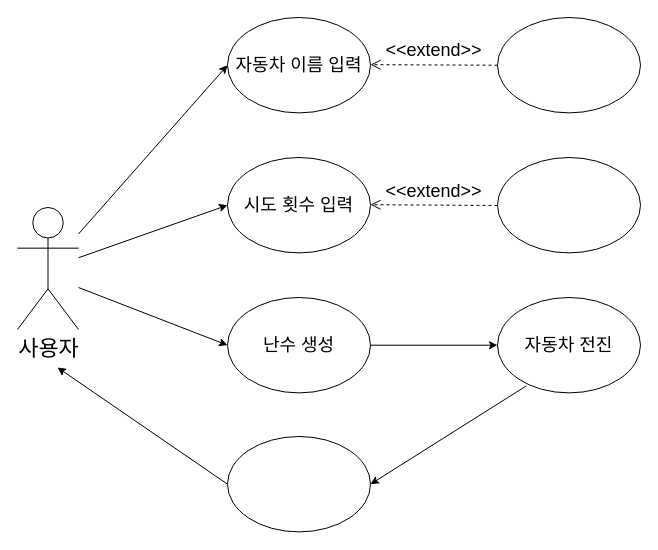
Image size: 658x550. Some labels were removed from this diagram. Here are the shapes that lost their labels. From the top down, the box of each, then its label:
(496, 16, 640, 113): 형식 검증
(496, 156, 640, 253): 값 검증
(226, 436, 370, 532): 우승자 출력
